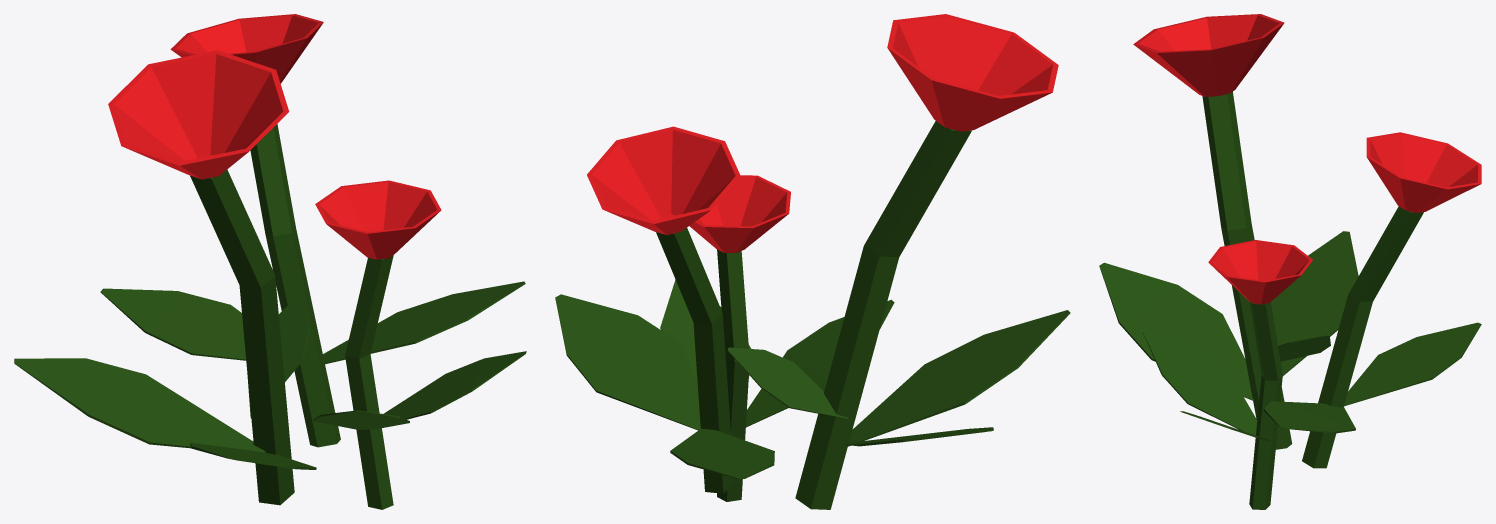
Rendered from Flower_01.obj.
3 renders of one model, left to right at view 1: azimuth 30°, elevation 25°; view 2: azimuth 150°, elevation 25°; view 3: azimuth 270°, elevation 25°, orthographic. The views are drawn at different scales.
Parts seen in each view (by area): view 1: Flower_01_Cylinder.010; view 2: Flower_01_Cylinder.010; view 3: Flower_01_Cylinder.010.
Boxes of the visible parts, x1=… form: Flower_01_Cylinder.010: x1=14, y1=14, x2=526, y2=509; Flower_01_Cylinder.010: x1=555, y1=14, x2=1070, y2=509; Flower_01_Cylinder.010: x1=1099, y1=14, x2=1481, y2=509.
Size of the model in its own units: 1.19 by 1.18 by 1.01.
